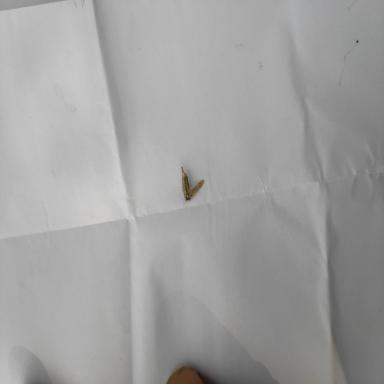pbw: (181, 166, 204, 201)
